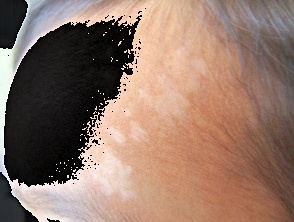vitiligo: (10, 33, 255, 222)
